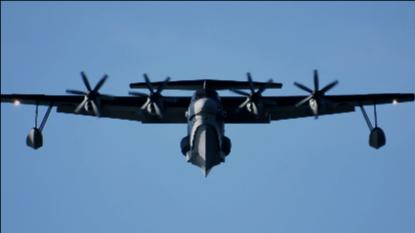Tu95: (0, 68, 413, 177)
